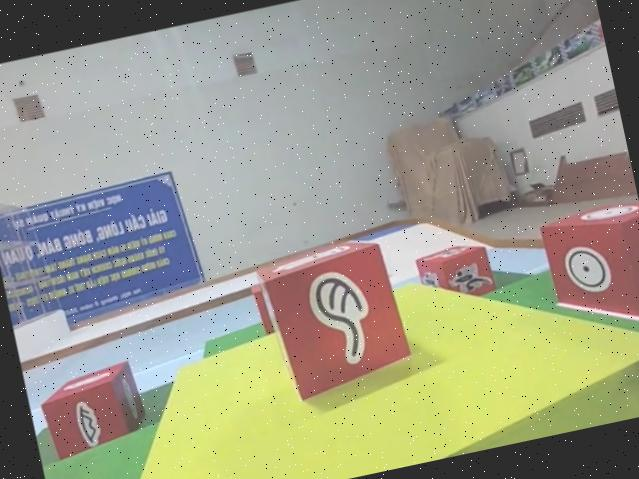R1: (410, 233, 495, 308)
R2 Fake: (254, 229, 420, 411)
R2 Real: (533, 193, 639, 337), (34, 357, 152, 466)
